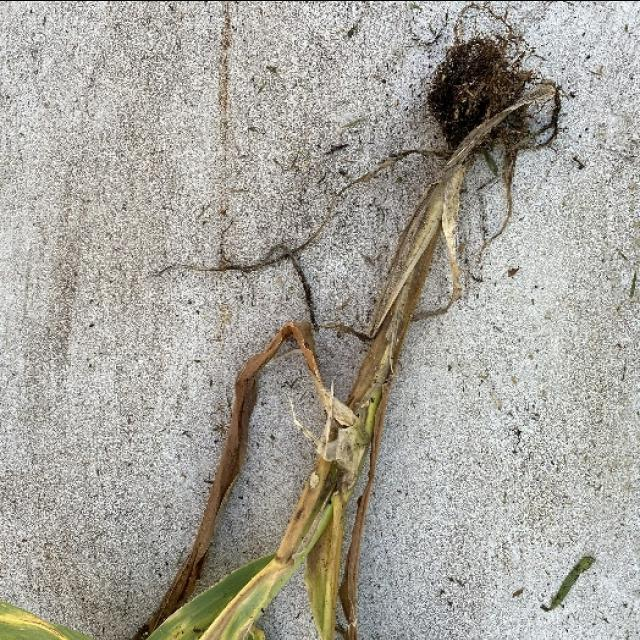organik: (140, 36, 556, 629)
